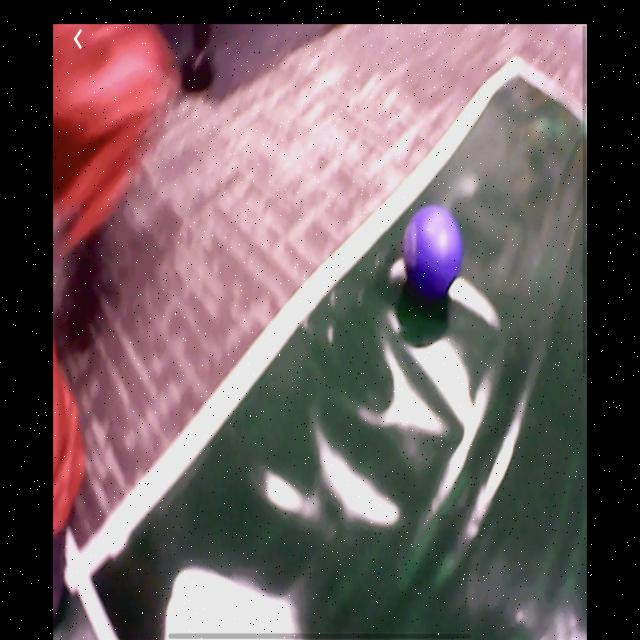ball: (404, 207, 464, 301)
